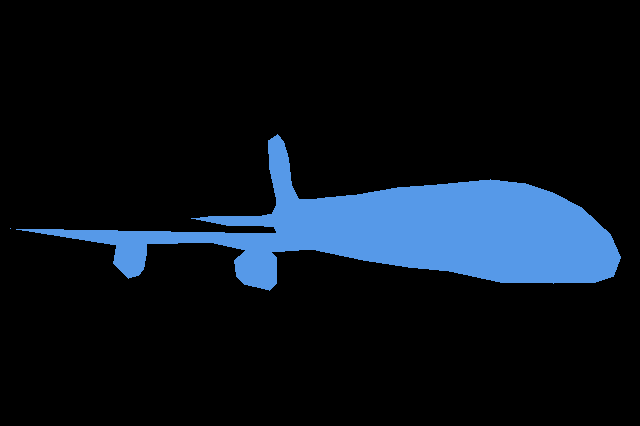Airplane: (10, 134, 620, 291)
